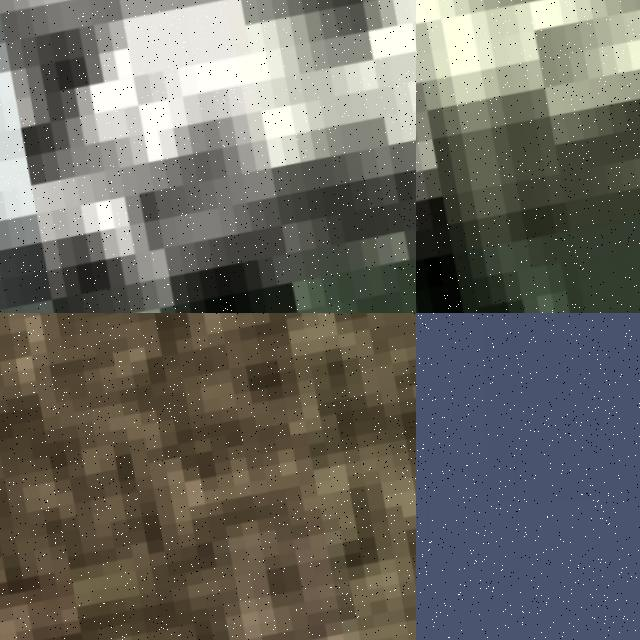0: (0, 0, 416, 313), (416, 0, 640, 313)
drone: (0, 313, 416, 640)
